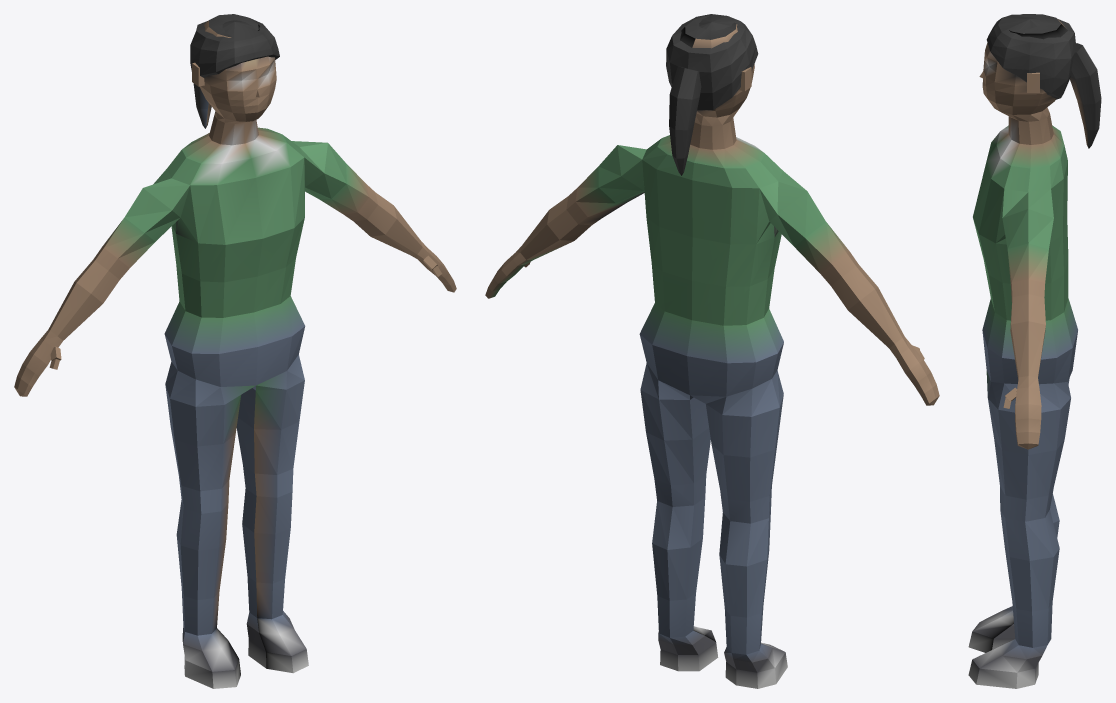
The model's file is char__pessoa__multidao_02.glb.
3 renders of one model, left to right at view 1: azimuth 30°, elevation 25°; view 2: azimuth 150°, elevation 25°; view 3: azimuth 270°, elevation 25°, orthographic. The views are drawn at different scales.
Visible parts, largest first — view 1: char__pessoa__multidao_02; view 2: char__pessoa__multidao_02; view 3: char__pessoa__multidao_02.
Boxes of the visible parts, bbox=[...] form: char__pessoa__multidao_02: bbox=[14, 14, 456, 688]; char__pessoa__multidao_02: bbox=[485, 14, 939, 688]; char__pessoa__multidao_02: bbox=[968, 14, 1101, 688].
Bounding box in the file's own units: 1.17 × 1.64 × 0.3055.
